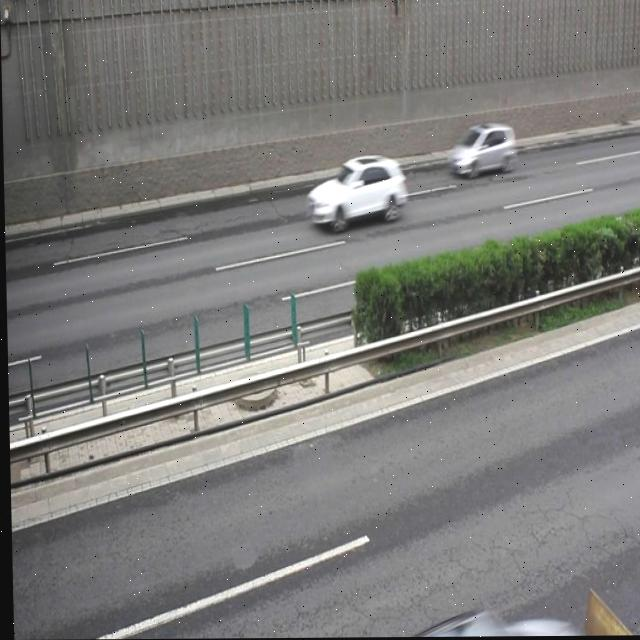car: (304, 153, 405, 230), (445, 120, 514, 178)
